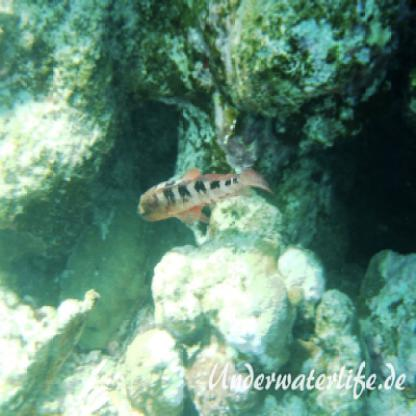grouper: (136, 165, 275, 228)
